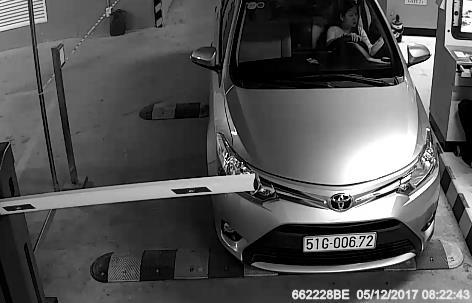License-plate: (298, 211, 380, 262)
